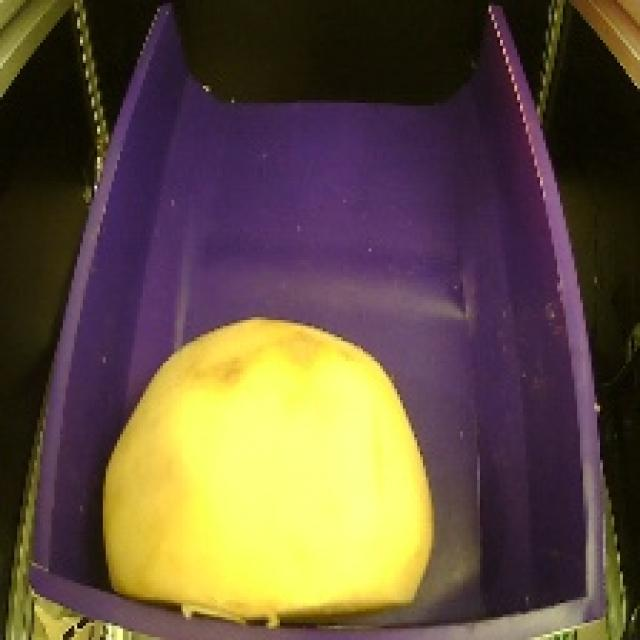full_potato: (89, 298, 450, 638)
